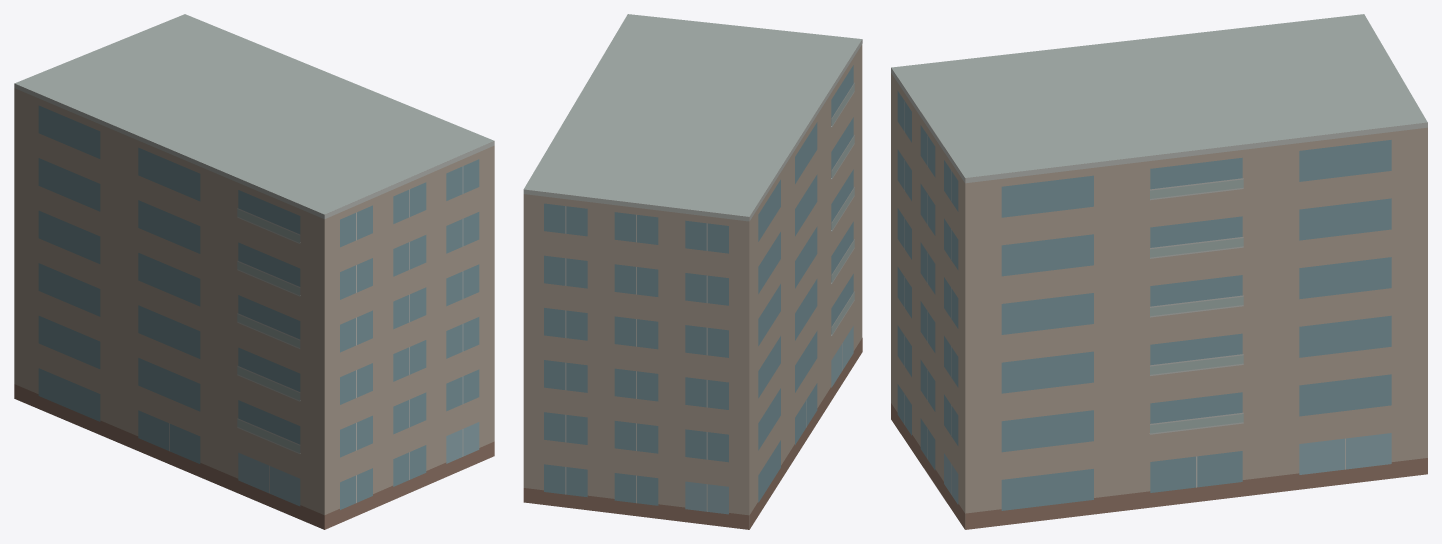
The model's file is survey-upis-32744952.glb.
The picture shows the model from 3 angles, left to right: view 1: azimuth 30°, elevation 25°; view 2: azimuth 150°, elevation 25°; view 3: azimuth 270°, elevation 25°; orthographic projection. The views are drawn at different scales.
Parts seen in each view (by area): view 1: survey-upis-32744952.tmp; view 2: survey-upis-32744952.tmp; view 3: survey-upis-32744952.tmp.
Part boxes in pixels (x1,y1,x2,y2): survey-upis-32744952.tmp: (14, 14, 494, 529); survey-upis-32744952.tmp: (523, 14, 862, 529); survey-upis-32744952.tmp: (891, 14, 1427, 529).
Bounding box in the file's own units: 16.52 × 16.5 × 22.82.
